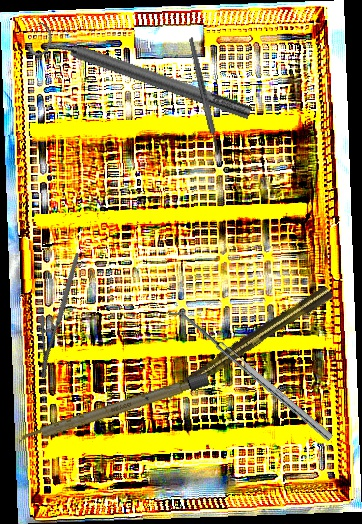Fixation Ring: (26, 18, 256, 133)
Handpiece: (160, 283, 336, 405)
Needle Holder: (5, 251, 116, 382)
Scalpel Handle: (15, 372, 211, 447), (187, 36, 222, 156)
Spatula Surgical: (166, 304, 334, 448)
